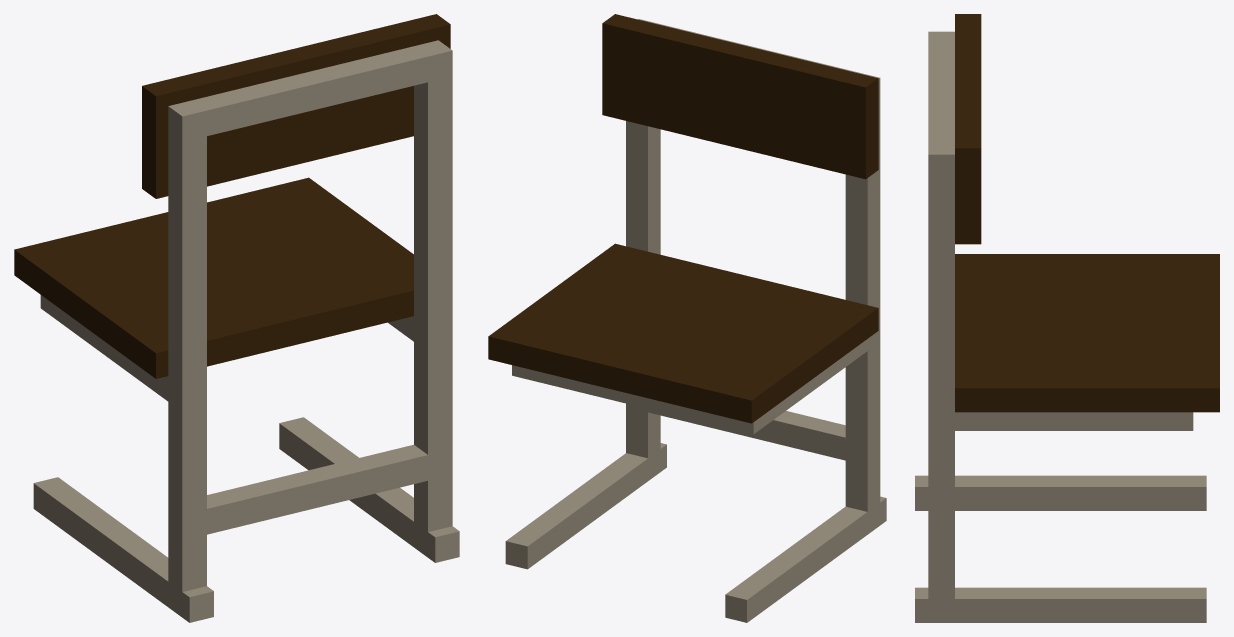
File: chair.obj
3 views of the same model, side by side, from view 1: azimuth 30°, elevation 25°; view 2: azimuth 150°, elevation 25°; view 3: azimuth 270°, elevation 25° (orthographic). The views are drawn at different scales.
Parts seen in each view (by area): view 1: Surface_Cube.001, Back_Cube.008, LeftPillar_Cube.005, RightPillar_Cube.004, TopPillar_Cube.007, BottomPillar_Cube.010, LeftLeg_Cube.003, RightLeg_Cube.002, TopLeftPillar_Cube.006; view 2: Surface_Cube.001, Back_Cube.008, LeftPillar_Cube.005, RightLeg_Cube.002, LeftLeg_Cube.003, RightPillar_Cube.004, BottomPillar_Cube.010, Cube.009, TopLeftPillar_Cube.006; view 3: Surface_Cube.001, RightPillar_Cube.004, RightLeg_Cube.002, LeftLeg_Cube.003, Back_Cube.008, TopRightPillar_Cube, TopPillar_Cube.007.
Boxes of the visible parts, x1,y1,x2,y2 form: Surface_Cube.001: (14, 177, 413, 378); Back_Cube.008: (142, 14, 450, 198); LeftPillar_Cube.005: (168, 119, 206, 591); RightPillar_Cube.004: (414, 65, 452, 531); TopPillar_Cube.007: (168, 40, 452, 141); BottomPillar_Cube.010: (207, 444, 427, 534); LeftLeg_Cube.003: (33, 477, 213, 622); RightLeg_Cube.002: (279, 417, 459, 562); TopLeftPillar_Cube.006: (40, 295, 168, 401); Surface_Cube.001: (488, 243, 878, 423); Back_Cube.008: (602, 14, 878, 179); LeftPillar_Cube.005: (845, 89, 880, 511); RightLeg_Cube.002: (505, 443, 666, 569); LeftLeg_Cube.003: (725, 496, 886, 622); RightPillar_Cube.004: (626, 121, 660, 458); BottomPillar_Cube.010: (648, 409, 845, 460); Cube.009: (534, 370, 731, 429); TopLeftPillar_Cube.006: (731, 339, 867, 434); Surface_Cube.001: (955, 254, 1219, 412); RightPillar_Cube.004: (928, 167, 954, 598); RightLeg_Cube.002: (915, 587, 1206, 622); LeftLeg_Cube.003: (915, 475, 1206, 510); Back_Cube.008: (955, 14, 981, 244); TopRightPillar_Cube: (955, 412, 1193, 430); TopPillar_Cube.007: (928, 31, 954, 178).
Bounding box in the file's own units: 0.6 × 1 × 0.575.
